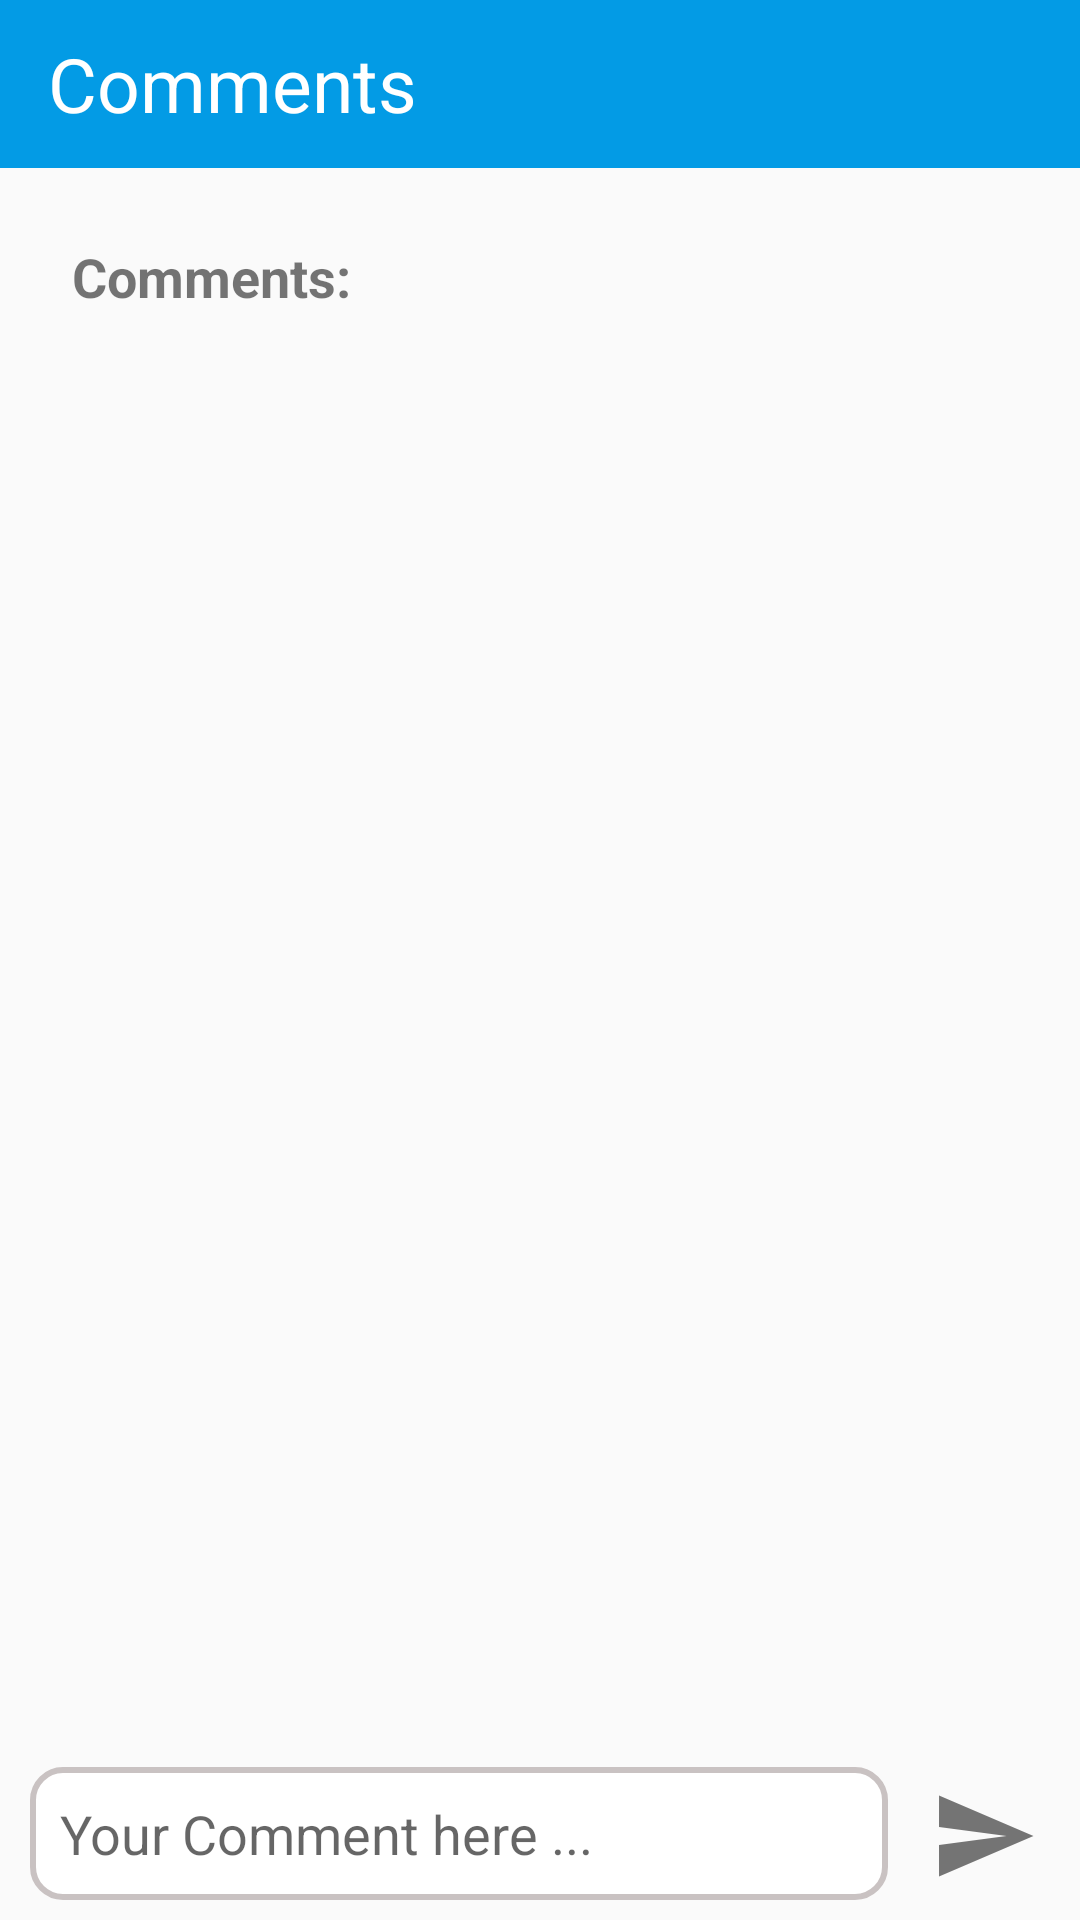

Named icons in this screenshot (1080*1920) and their centers, point (x, y):
send: point (986, 1836)
